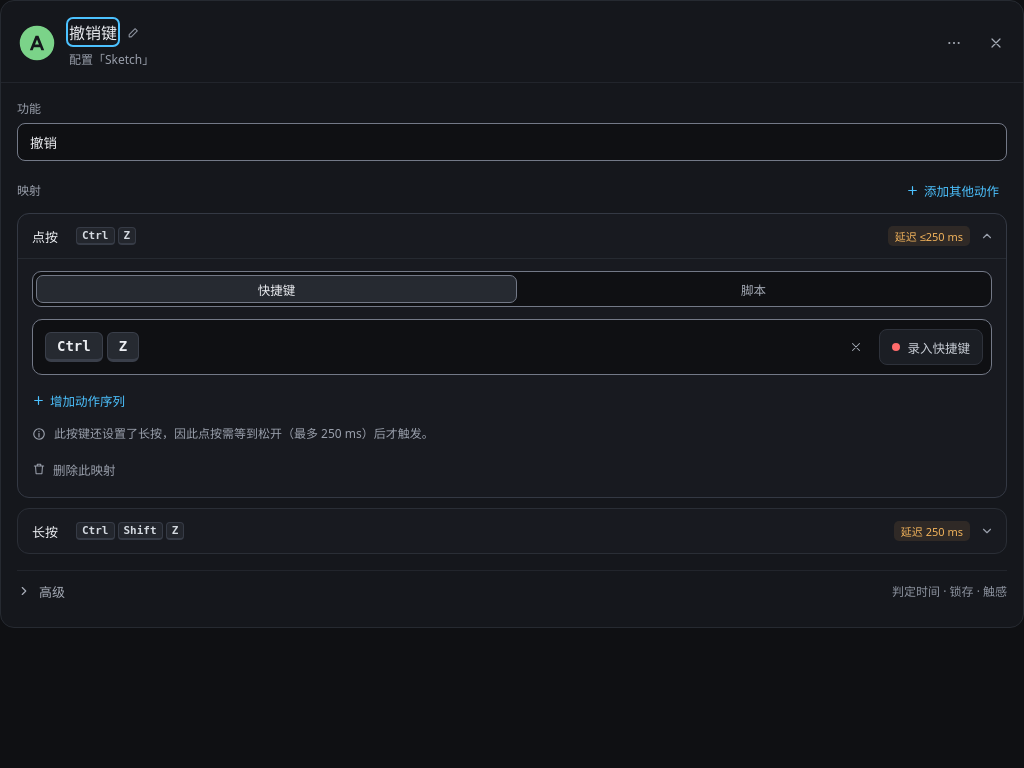
Test: copies the settings the key has, whoever wrote them
Click the button with test id "key-actions". click: [954, 42]
box: [939,28,969,58]
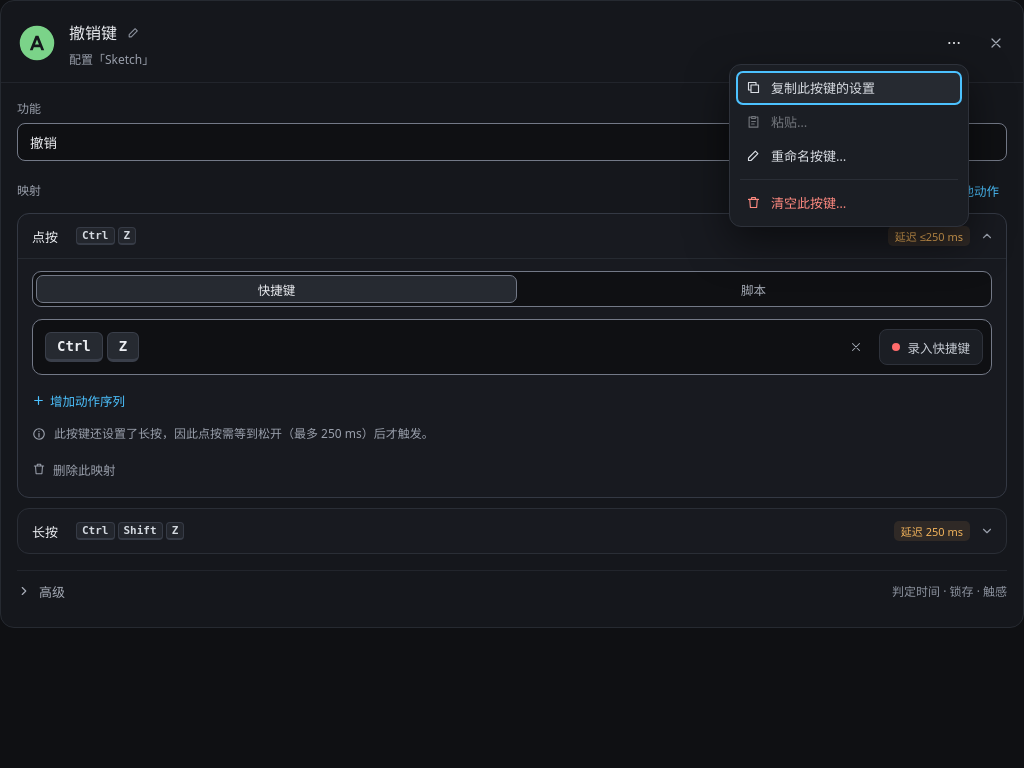
Click the menu item "复制此按键的设置". click: [849, 88]
box: [736,70,962,104]
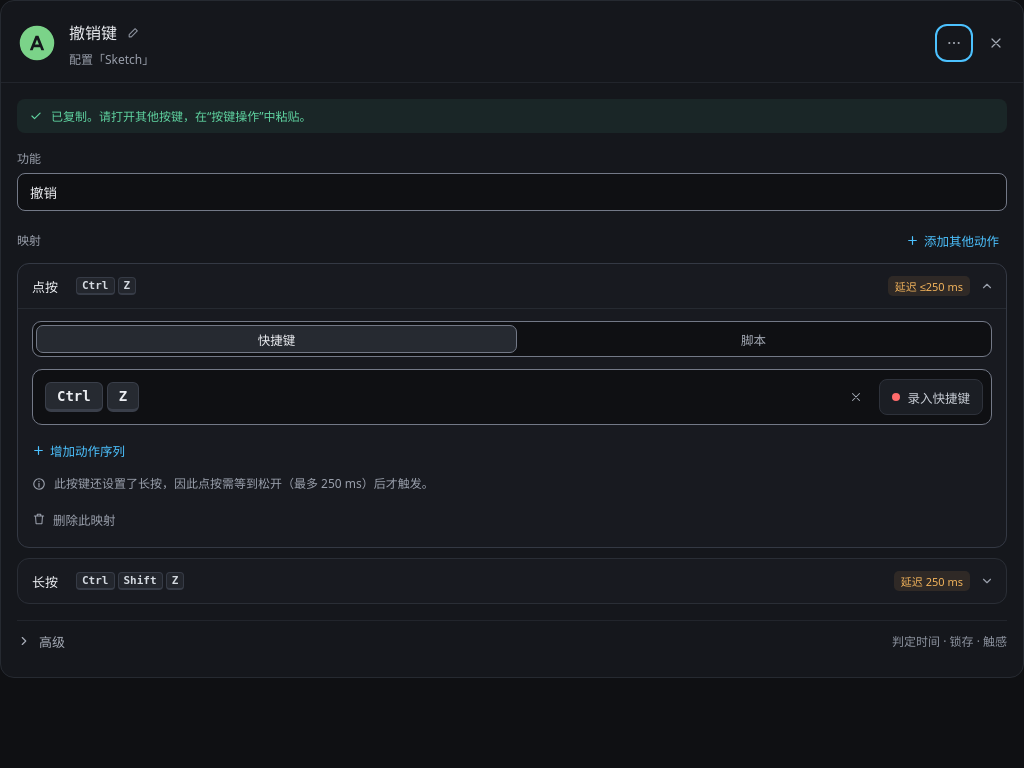
Now the message shows "已复制", box [51,108,312,125]
